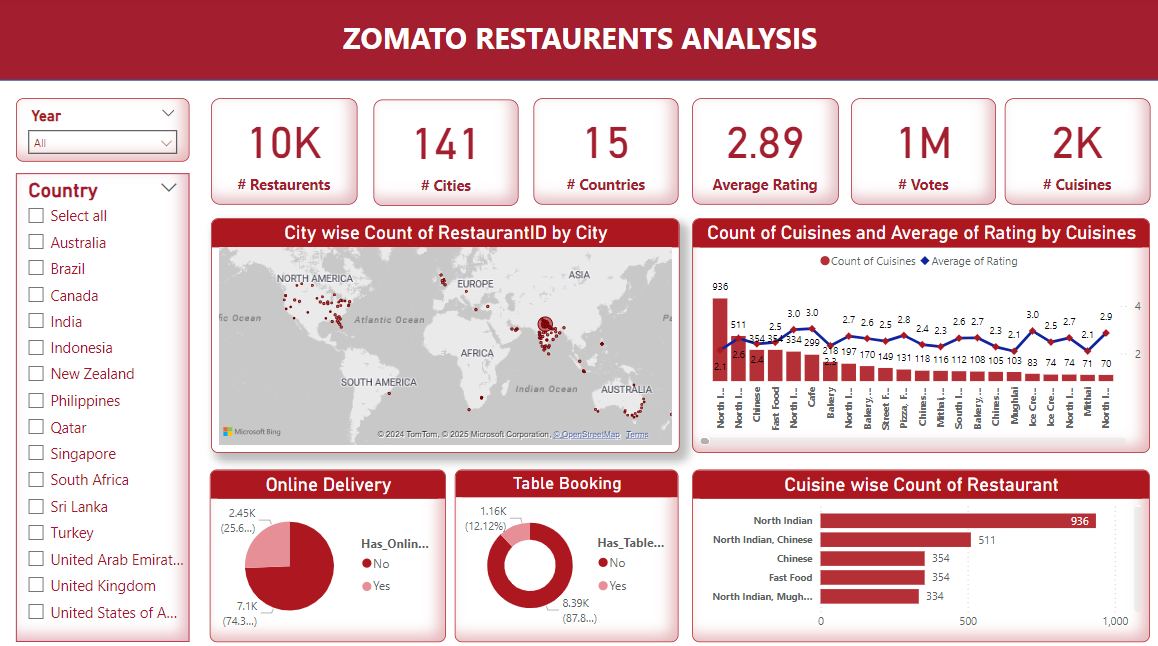

What the dashboard file says about the page in this screenshot:
{"tool":"powerbi","page":{"name":"Page 1","canvas":[1280,720],"ordinal":0},"visuals":[{"type":"shape","box":[0,0,1280.6,91.7],"z":0},{"type":"textbox","box":[313.9,18.1,654.2,55.6],"z":1000},{"type":"cardVisual","fields":{"Data":["Count(Sheet1.RestaurantID)"]},"box":[236,111.1,160.5,116.6],"z":2000},{"type":"cardVisual","fields":{"Data":["Count(Sheet1.City)"]},"box":[414.4,112.5,159.2,116.6],"z":3000},{"type":"cardVisual","fields":{"Data":["Count(Sheet2.country name)"]},"box":[590.1,111.1,159.2,116.6],"z":4000},{"type":"cardVisual","fields":{"Data":["Sum(Sheet1.Votes)"]},"box":[938.6,111.1,159.2,116.6],"z":5000},{"type":"cardVisual","fields":{"Data":["Count(Sheet1.Cuisines)"]},"box":[1106.9,111.1,159.7,116.7],"z":6000},{"type":"cardVisual","fields":{"Data":["Avg(Sheet1.Rating)"]},"box":[764.3,111.1,160.5,116.6],"z":7000},{"type":"slicer","fields":{"Values":["Sheet2.country name"]},"box":[22,193.5,190.7,514.6],"z":8000},{"type":"lineStackedColumnComboChart","fields":{"Category":["Sheet1.Cuisines"],"Y":["CountNonNull(Sheet1.Cuisines)"],"Y2":["Avg(Sheet1.Rating)"]},"box":[764.3,242.9,502.2,258],"z":9000},{"type":"map","title":"City wise Count of RestaurantID by City","fields":{"Category":["Sheet1.City"],"Size":["CountNonNull(Sheet1.RestaurantID)"]},"box":[236,242.9,514.6,258],"z":10000},{"type":"clusteredBarChart","title":"Cuisine wise Count of Restaurant","fields":{"Category":["Sheet1.Cuisines"],"Y":["CountNonNull(Sheet1.RestaurantID)"]},"box":[764.3,518.7,502.2,189.4],"z":11000},{"type":"pieChart","title":"Online Delivery","fields":{"Category":["Sheet1.Has_Online_delivery"],"Y":["CountNonNull(Sheet1.RestaurantID)"]},"box":[234.6,518.7,259.3,189.4],"z":12000},{"type":"donutChart","title":"Table Booking","fields":{"Category":["Sheet1.Has_Table_booking"],"Y":["CountNonNull(Sheet1.RestaurantID)"]},"box":[503.6,518.7,245.6,189.4],"z":13000},{"type":"slicer","fields":{"Values":["Sheet1.Datekey_Opening.Variation.Date Hierarchy.Year"]},"box":[22,111.1,190.7,70],"z":14000}]}

Visuals, with their boxes in screenshot pixels (x1, y1, x2, y2), scaled from the page's 1280x720 canvas onto the 1158x646 screenshot:
shape: region(0, 0, 1157, 82)
textbox: region(284, 16, 876, 66)
cardVisual - Count(Sheet1.RestaurantID): region(214, 100, 359, 204)
cardVisual - Count(Sheet1.City): region(375, 101, 519, 206)
cardVisual - Count(Sheet2.country name): region(534, 100, 678, 204)
cardVisual - Sum(Sheet1.Votes): region(849, 100, 993, 204)
cardVisual - Count(Sheet1.Cuisines): region(1001, 100, 1146, 204)
cardVisual - Avg(Sheet1.Rating): region(691, 100, 837, 204)
slicer - Sheet2.country name: region(20, 174, 192, 635)
lineStackedColumnComboChart - Sheet1.Cuisines x CountNonNull(Sheet1.Cuisines): region(691, 218, 1146, 449)
"City wise Count of RestaurantID by City" map: region(214, 218, 679, 449)
"Cuisine wise Count of Restaurant" clusteredBarChart: region(691, 465, 1146, 635)
"Online Delivery" pieChart: region(212, 465, 447, 635)
"Table Booking" donutChart: region(456, 465, 678, 635)
slicer - Sheet1.Datekey_Opening.Variation.Date Hierarchy.Year: region(20, 100, 192, 162)
